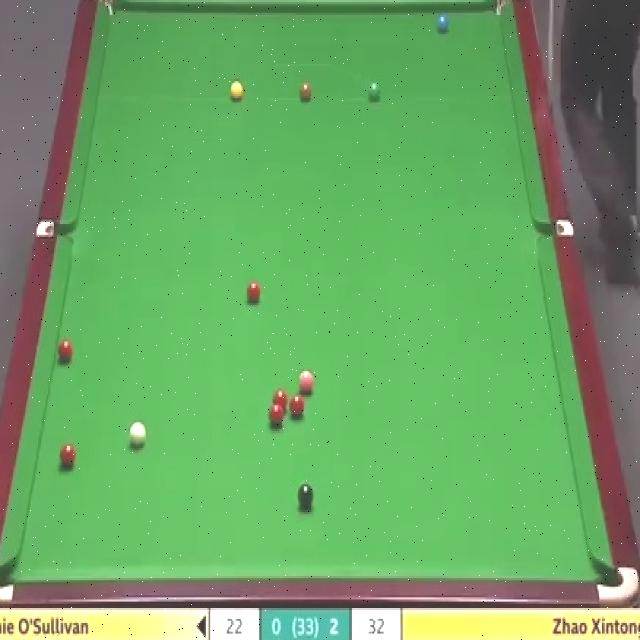black-ball: (296, 483, 314, 508)
blue-ball: (437, 14, 448, 36)
brown-ball: (298, 83, 312, 101)
green-ball: (367, 79, 382, 104)
pink-ball: (298, 368, 315, 394)
red-ball: (55, 338, 74, 364), (58, 443, 76, 466), (289, 394, 305, 419), (273, 388, 288, 414), (245, 281, 261, 302), (269, 404, 284, 426)
white-ball: (130, 420, 146, 449)
yellow-ball: (229, 80, 244, 102)
